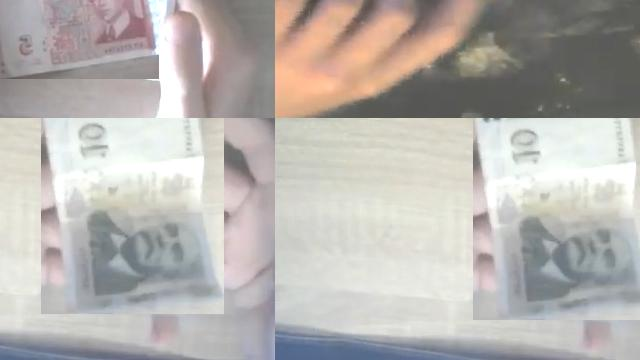10leva: (42, 118, 224, 314), (474, 118, 640, 320)
